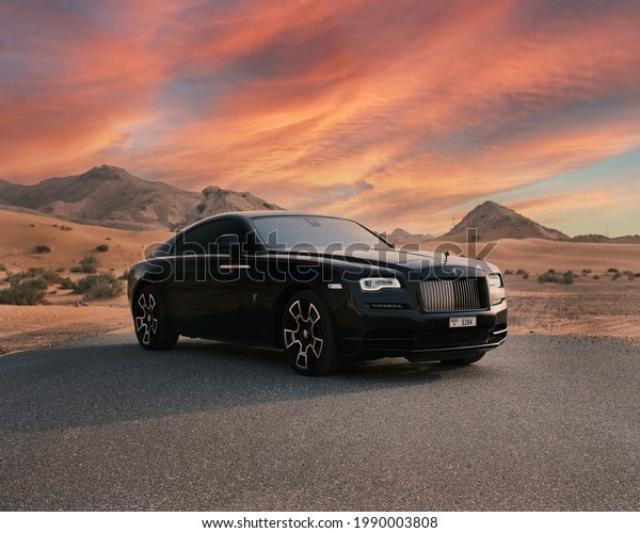rolls-royce: (126, 213, 508, 376)
